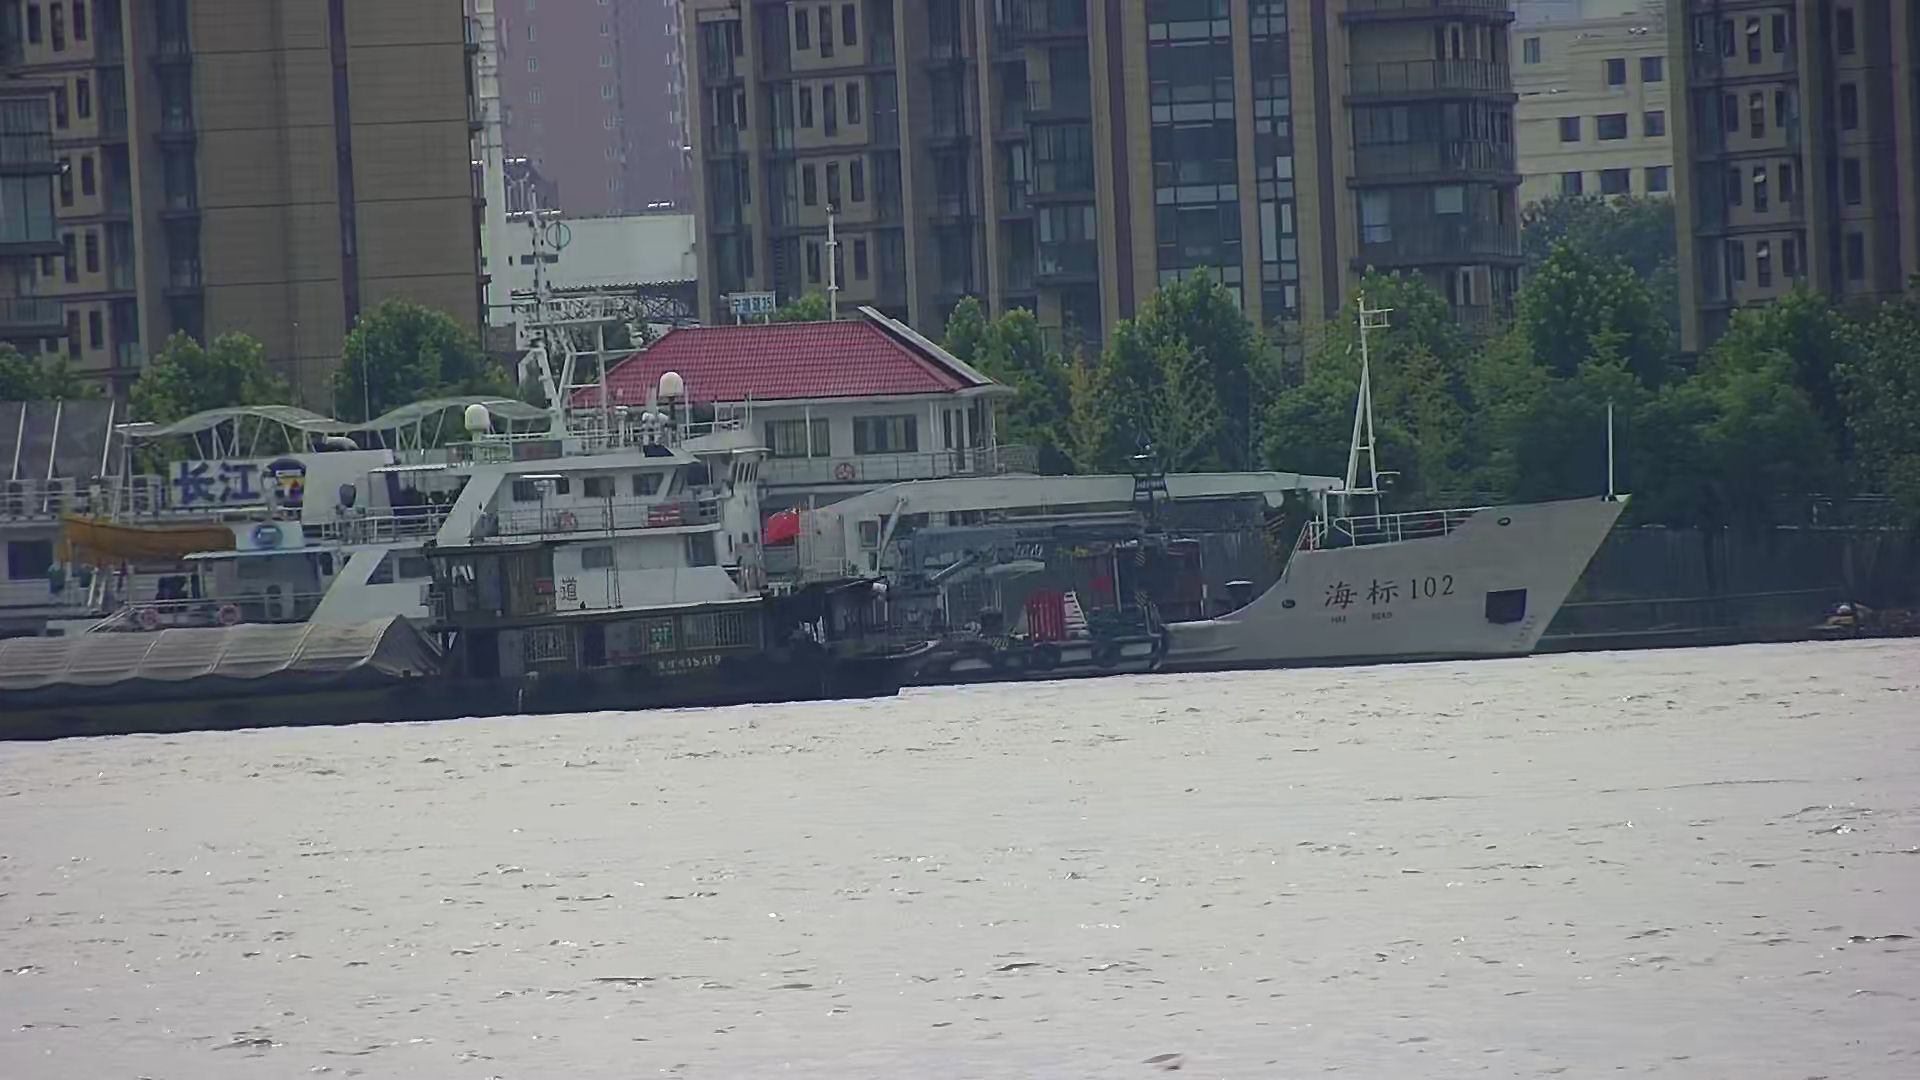ship: (1, 204, 1633, 686), (1, 183, 760, 601), (1, 501, 944, 740)
